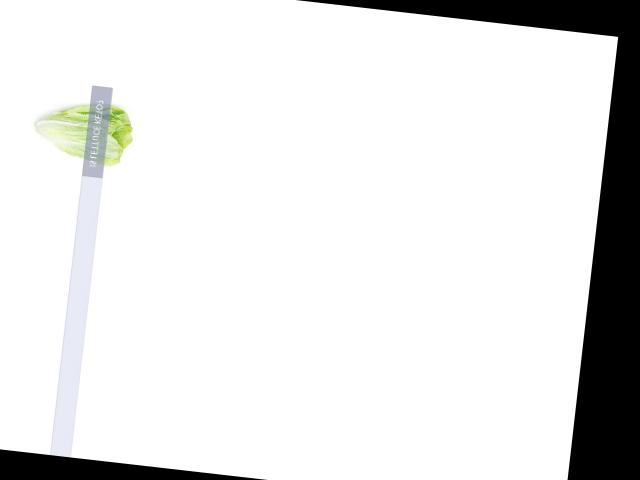lettuce: (21, 90, 136, 170)
